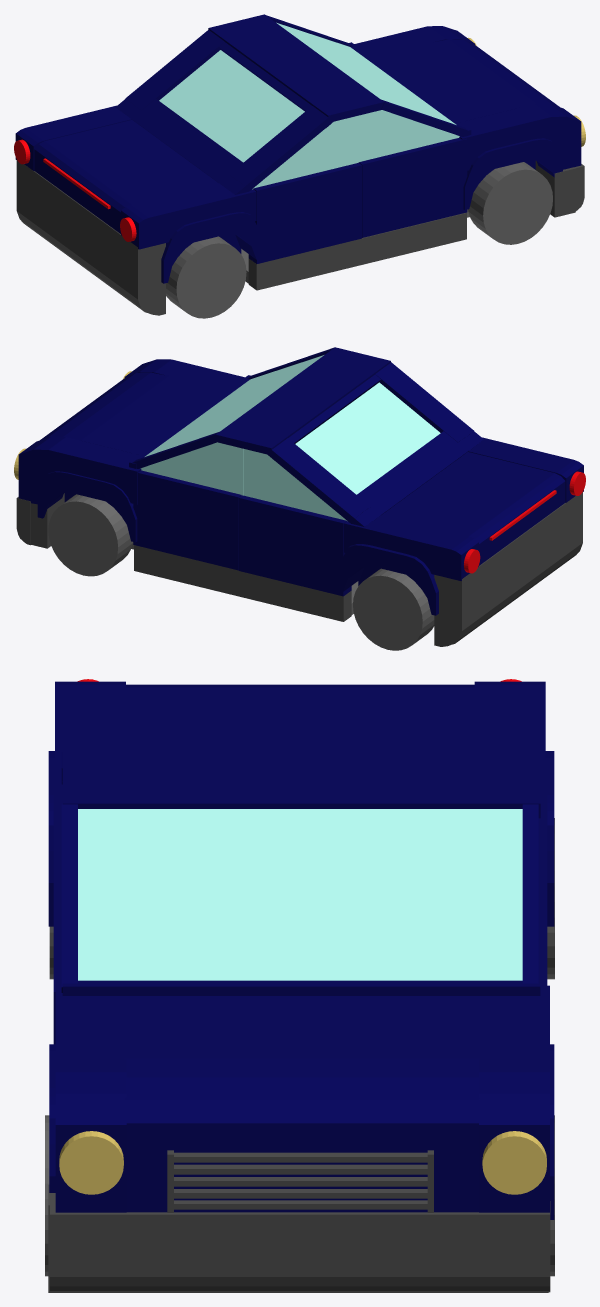
The model's file is Pws Auto(1).fbx.
3 views of the same model, one above another, from view 1: azimuth 30°, elevation 25°; view 2: azimuth 150°, elevation 25°; view 3: azimuth 270°, elevation 25° (orthographic). The views are drawn at different scales.
Visible parts, largest first — view 1: Cube.039; view 2: Cube.039; view 3: Cube.039.
Boxes of the visible parts, left/top/right/bottom form: Cube.039: left=14, top=14, right=585, bottom=318; Cube.039: left=14, top=347, right=585, bottom=650; Cube.039: left=45, top=679, right=554, bottom=1292.
Bounding box in the file's own units: 646 × 232 × 316.
